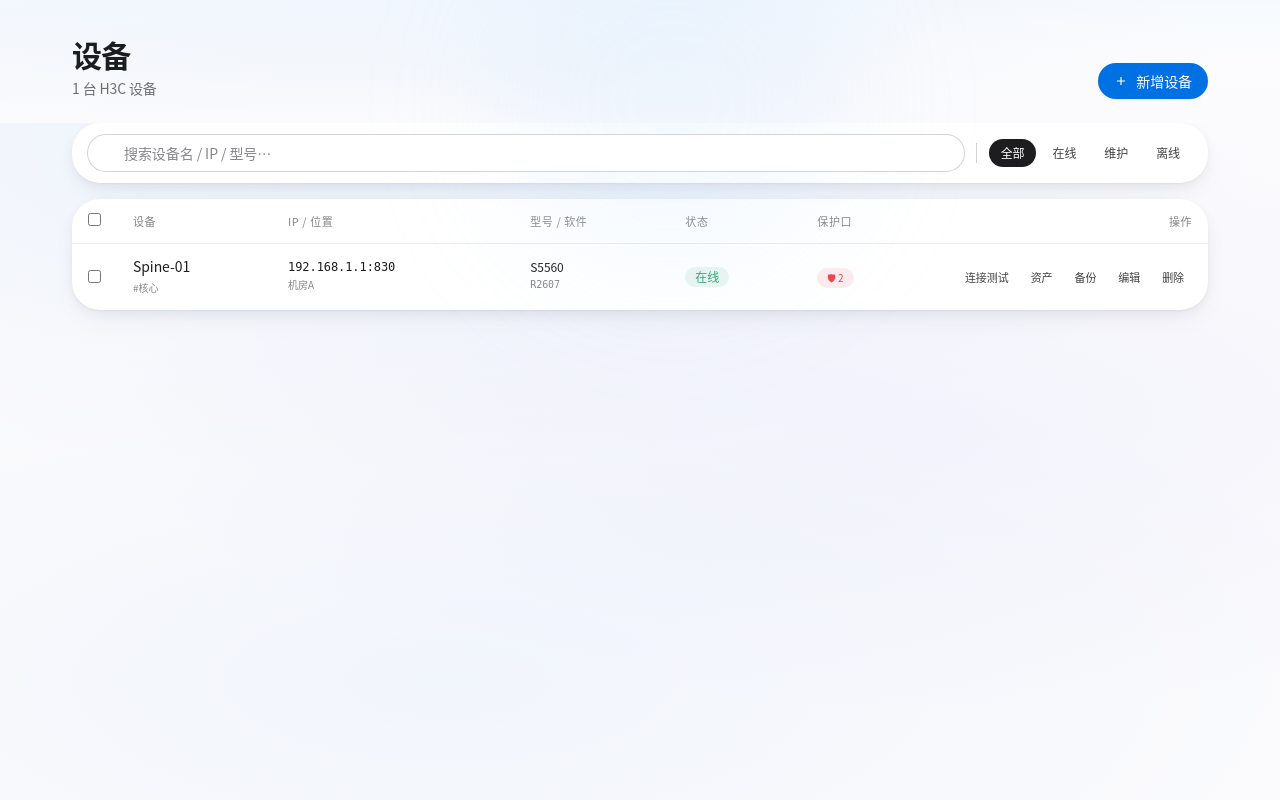
Test: Devices 组件 › case 3: 编辑 —— 点击设备的编辑按钮，DeviceFormModal 打开（edit 模式）
Click the button "编辑" at (1129, 276), box [1110,262,1148,290]
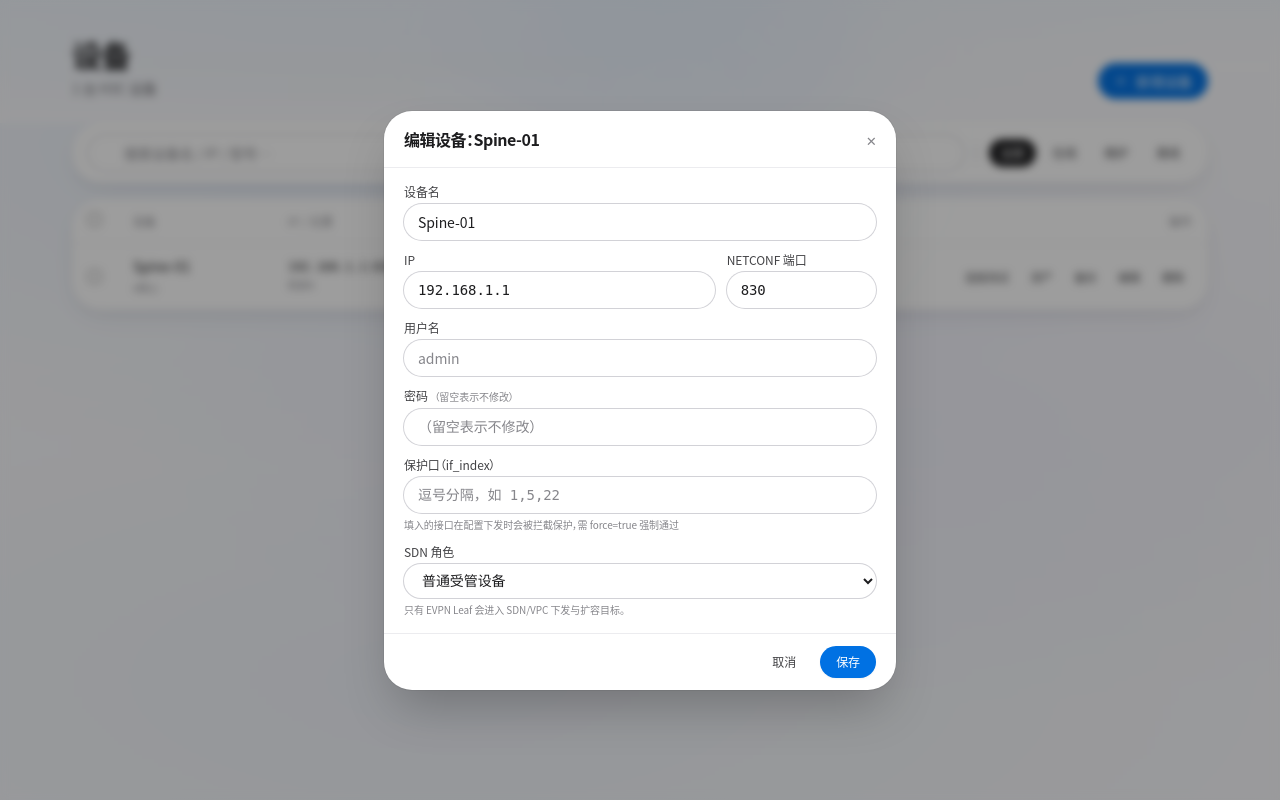
Result: the text "编辑设备：Spine-01" is shown at [404,126,540,150]
